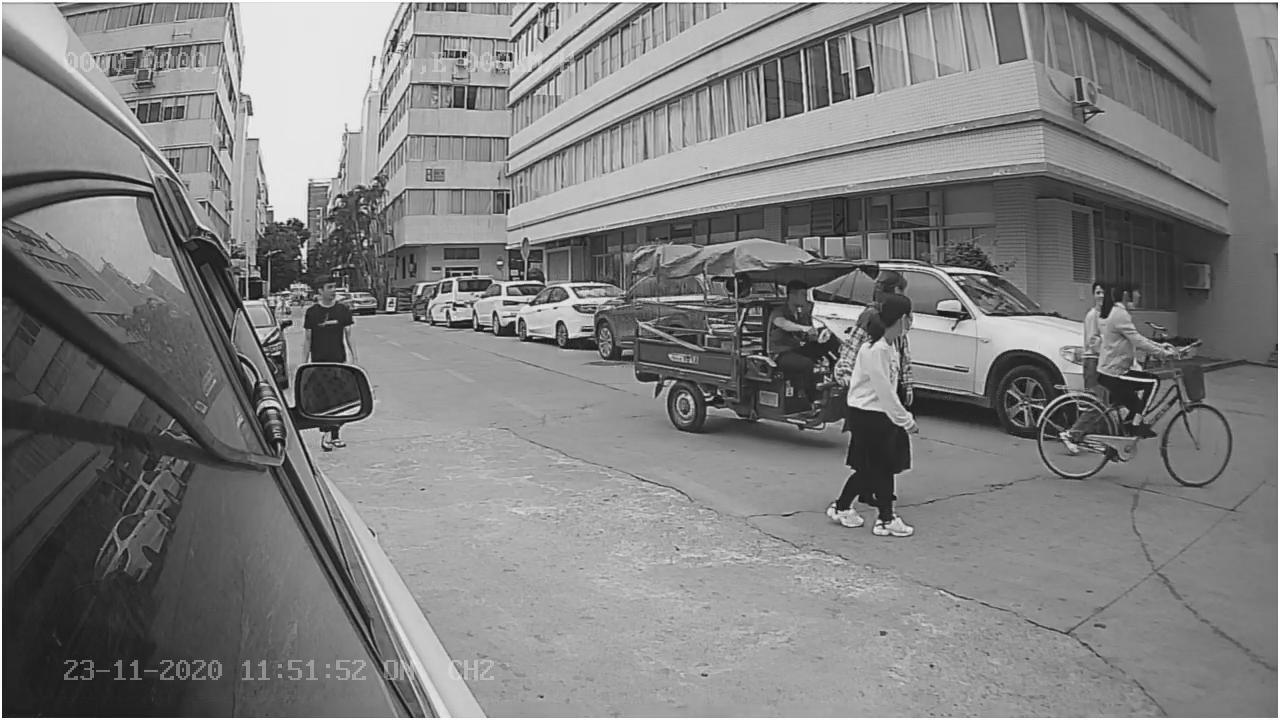person: (825, 292, 924, 532), (1093, 279, 1188, 357)
